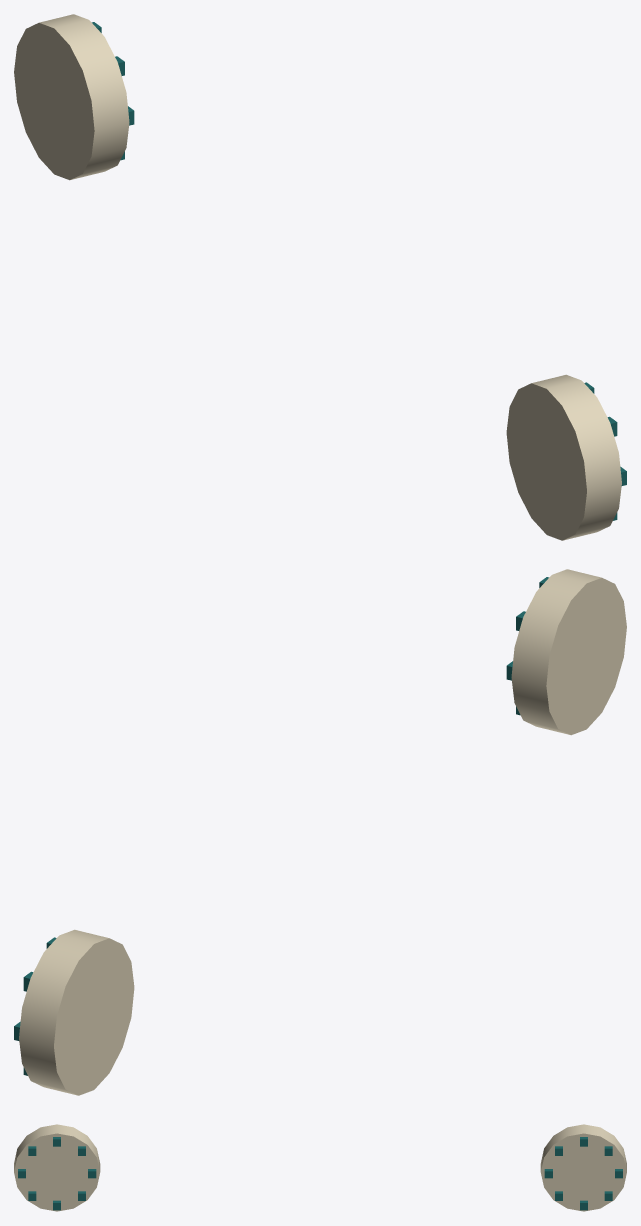
File: kpfe_mount.obj
3 views of the same model, one above another, from view 1: azimuth 30°, elevation 25°; view 2: azimuth 150°, elevation 25°; view 3: azimuth 270°, elevation 25° (orthographic). The views are drawn at different scales.
Parts seen in each view (by area): view 1: kpfe_mount; view 2: kpfe_mount; view 3: kpfe_mount.
Part boxes in pixels (x1=…): kpfe_mount: x1=14, y1=14, x2=626, y2=540; kpfe_mount: x1=14, y1=569, x2=626, y2=1095; kpfe_mount: x1=14, y1=1124, x2=626, y2=1211.
Bounding box in the file's own units: 0.1 × 0.32 × 2.28.
